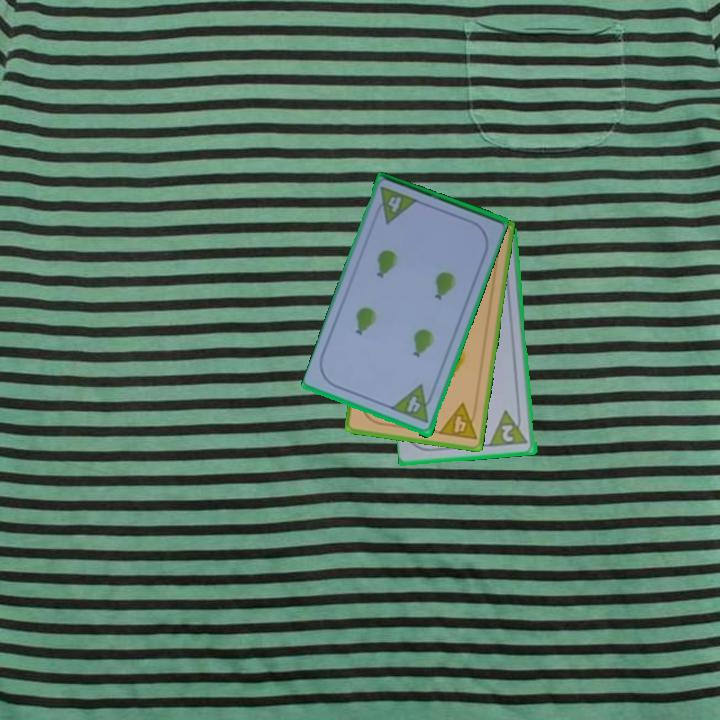2p: (499, 421, 517, 445)
4p: (389, 382, 438, 427), (370, 183, 420, 227), (435, 400, 480, 443)
